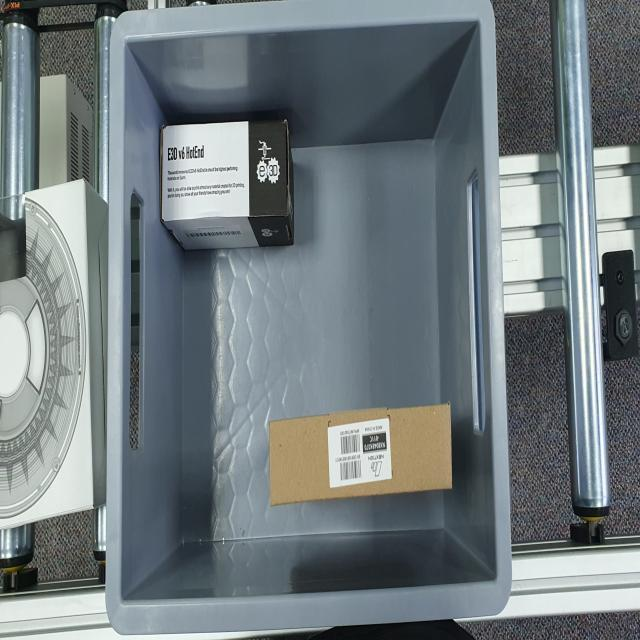box: (159, 125, 294, 243)
